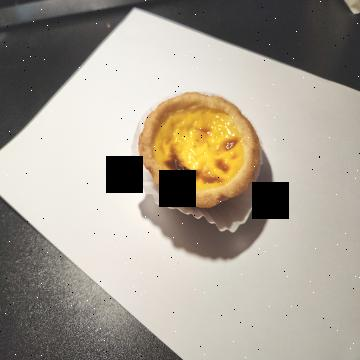EggTart: (138, 90, 261, 210)
